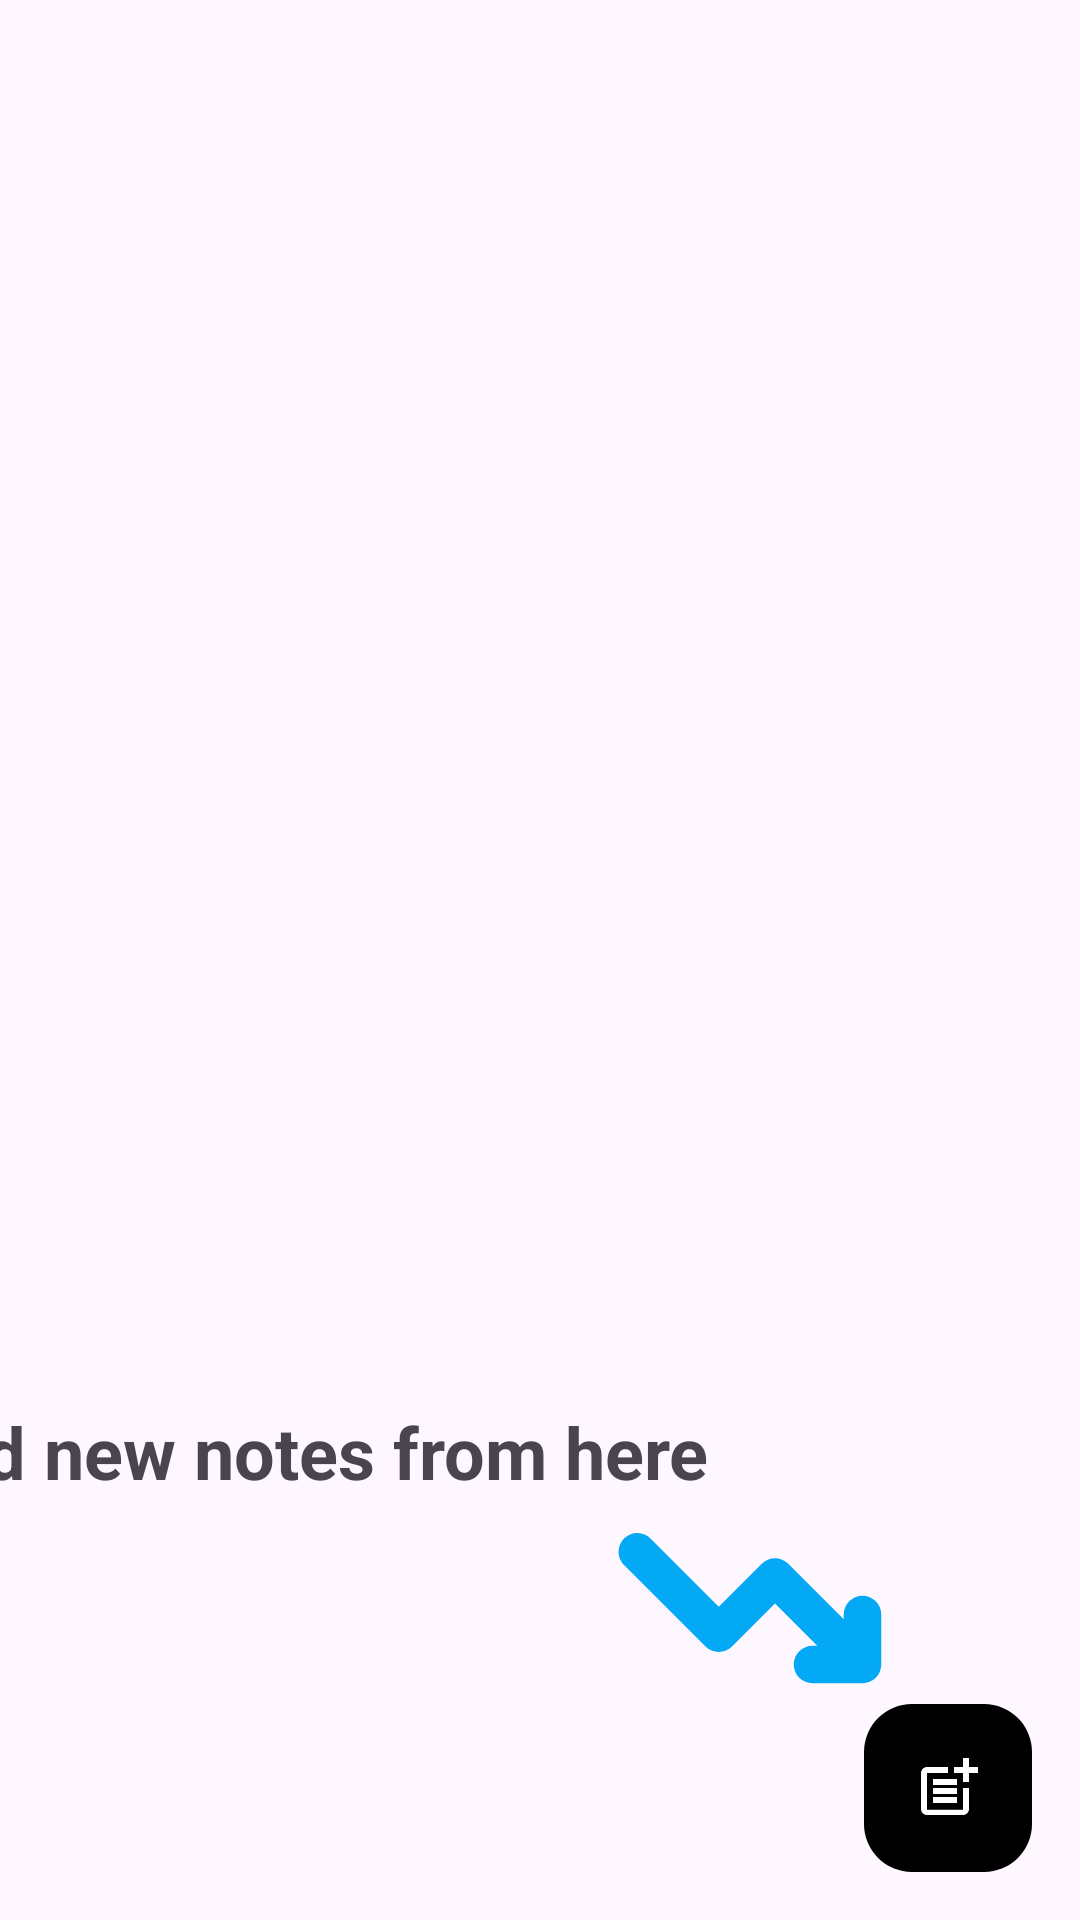

Named icons in this screenshot (1080px×1920px) and their bounding boxes, rect(x1, y1, x2, y2):
Add New Note: rect(864, 1704, 1032, 1872)
arrow: rect(618, 1533, 882, 1684)
